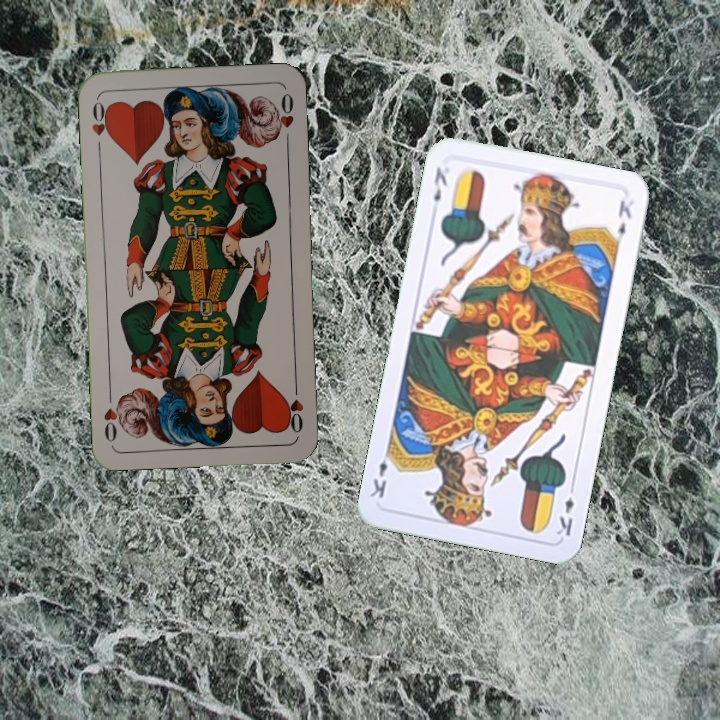EK: (553, 480, 578, 539), (429, 163, 450, 204)
HO: (88, 95, 113, 154), (283, 378, 306, 436)
